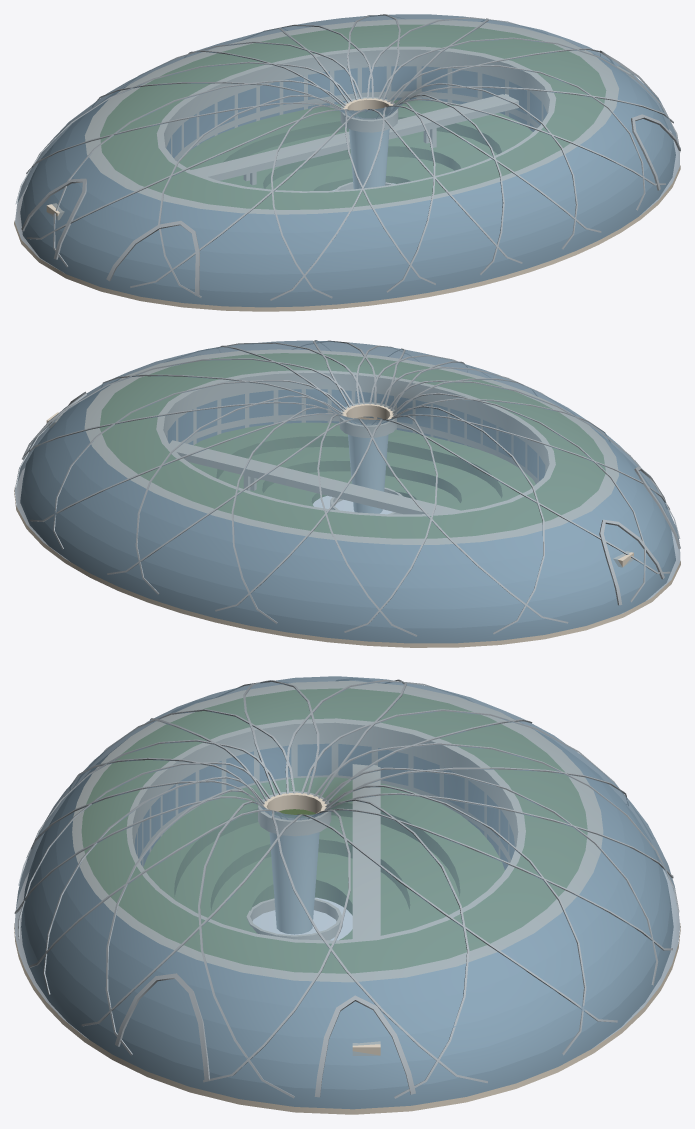
Rendered from singapore-changi-jewel.glb.
The picture shows the model from 3 angles, top to bottom: view 1: azimuth 30°, elevation 25°; view 2: azimuth 150°, elevation 25°; view 3: azimuth 270°, elevation 25°; orthographic projection. The views are drawn at different scales.
Visible parts, largest first — view 1: Jewel Changi Airport; view 2: Jewel Changi Airport; view 3: Jewel Changi Airport.
Boxes of the visible parts, <box> form: Jewel Changi Airport: <box>14,14,680,311</box>; Jewel Changi Airport: <box>14,340,680,647</box>; Jewel Changi Airport: <box>14,676,680,1114</box>.
Bounding box in the file's own units: 204 × 38.25 × 153.
